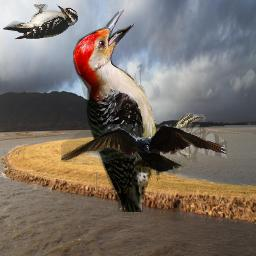Crow: (61, 124, 227, 181)
Woodpecker: (73, 9, 207, 212), (1, 4, 83, 42)
